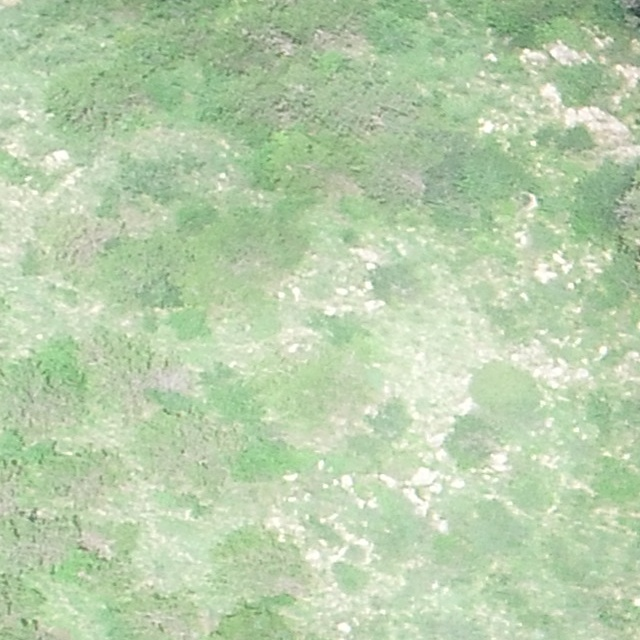unhealthy: (147, 364, 201, 394), (78, 525, 114, 558), (32, 620, 71, 639), (0, 477, 17, 518)
